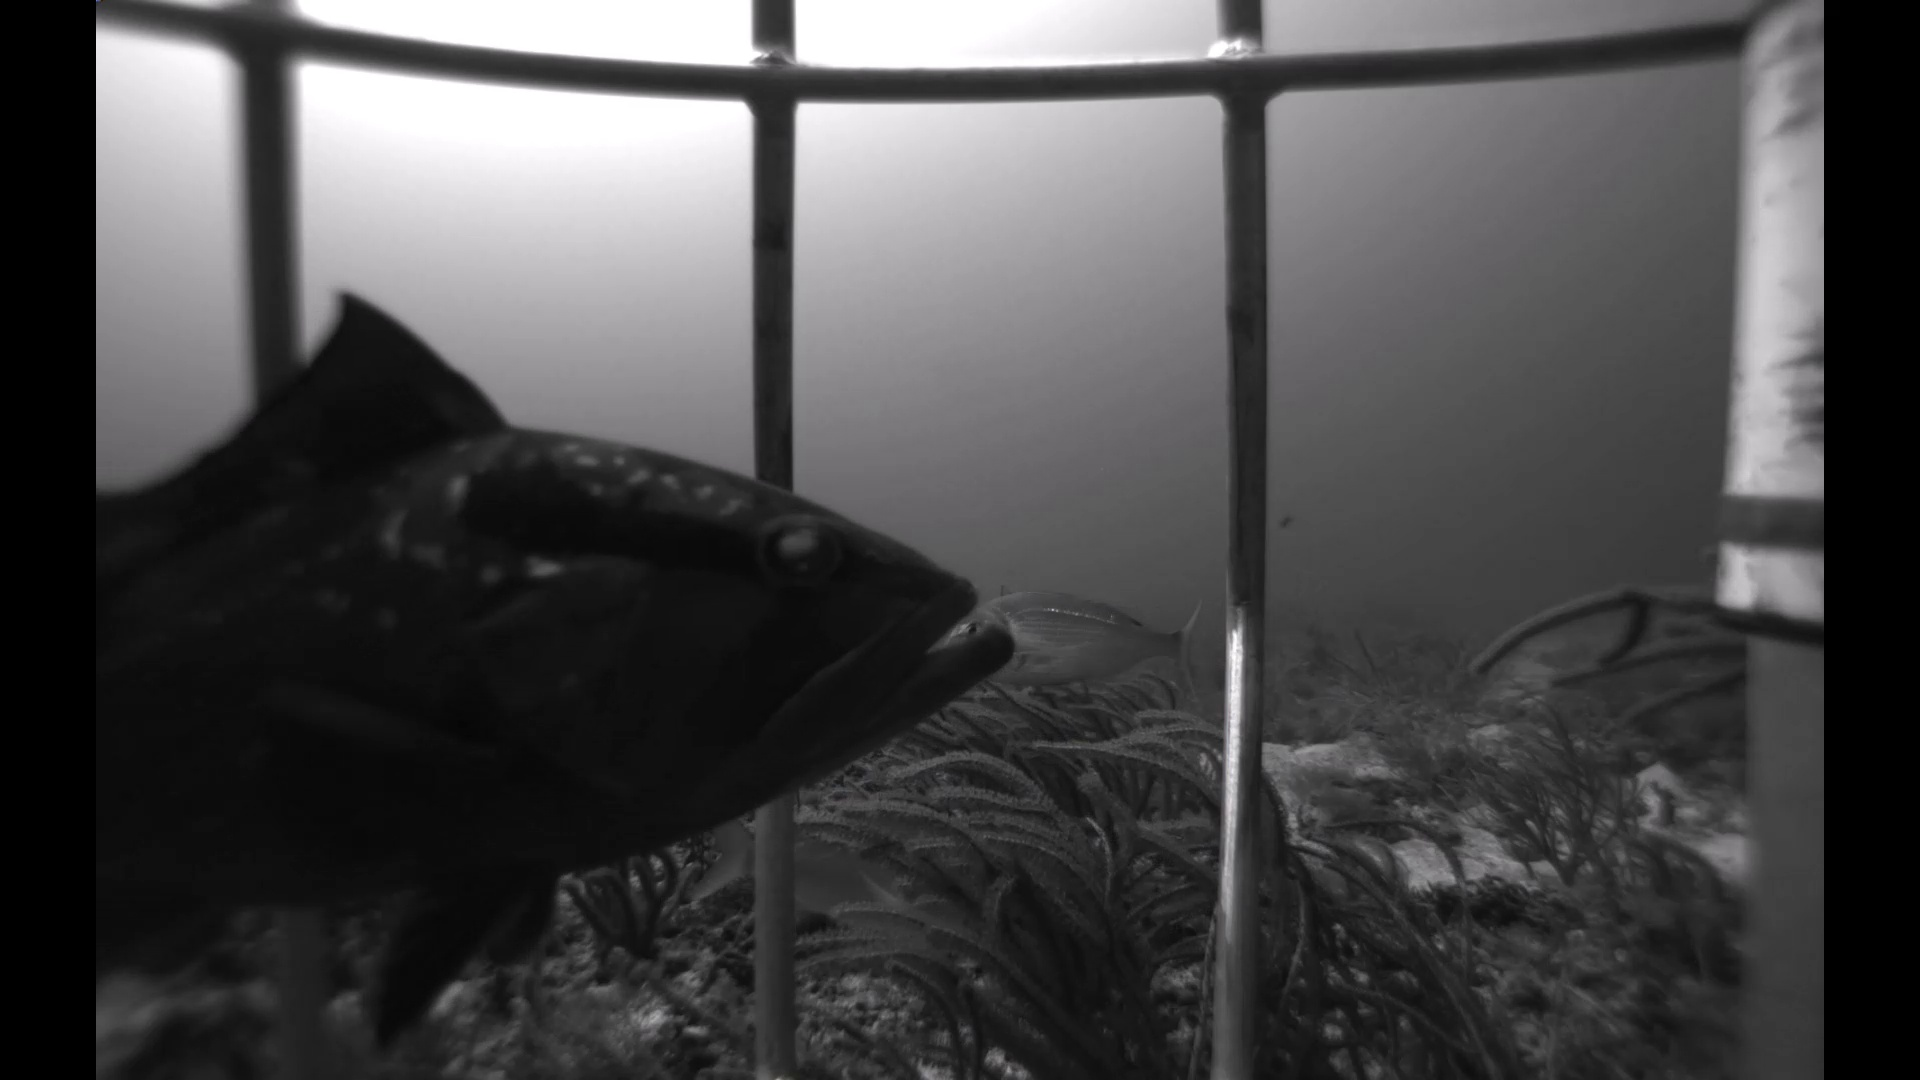CALAMUSNODOSUS-170210608: (687, 815, 894, 938)
EPINEPHELUSMORIO-170021211: (117, 264, 1040, 1044)
LUTJANUSGRISEUS-170151109: (989, 582, 1015, 601)
PAGRUSPAGRUS-170212302: (934, 585, 1212, 702)
